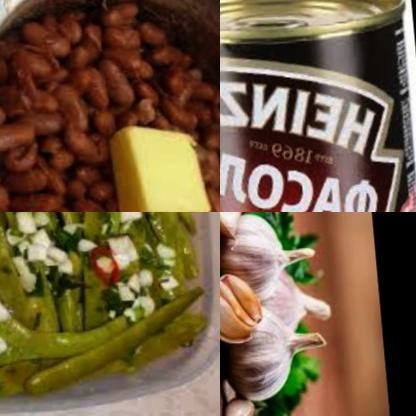fasol: (0, 262, 201, 404), (0, 10, 111, 212), (97, 3, 220, 147), (113, 212, 214, 328), (195, 126, 220, 212)
garlic: (220, 301, 330, 408), (220, 212, 315, 303), (249, 267, 332, 336), (7, 212, 67, 294), (220, 271, 260, 347), (115, 266, 160, 328), (96, 237, 140, 276), (220, 212, 250, 252), (106, 212, 142, 232), (220, 397, 249, 416), (0, 285, 10, 334)
